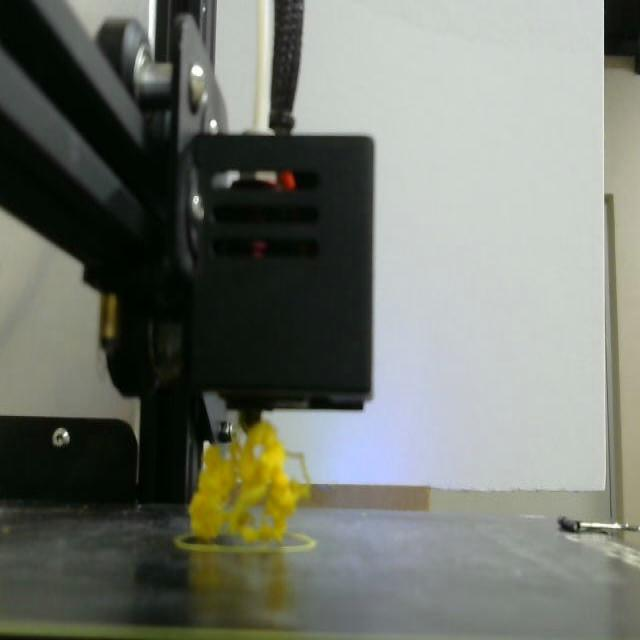spaghetti: (175, 422, 316, 554)
